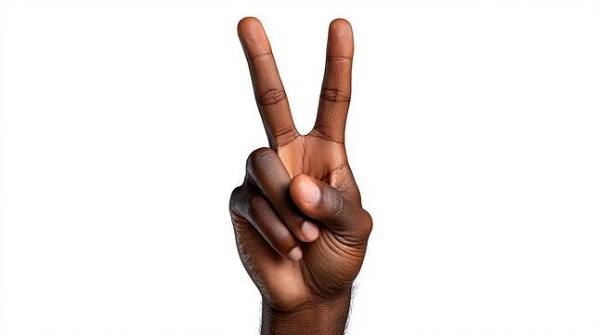peace_sign: (220, 1, 377, 297)
